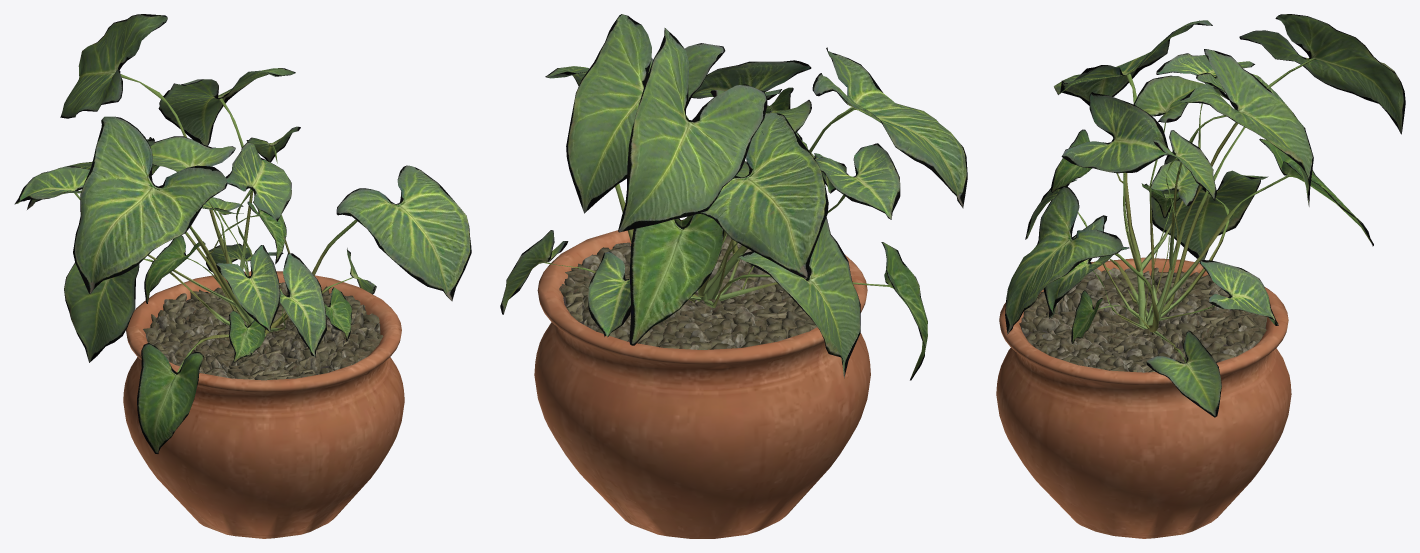
Rendered from potted-plant-2.glb.
3 views of the same model, side by side, from view 1: azimuth 30°, elevation 25°; view 2: azimuth 150°, elevation 25°; view 3: azimuth 270°, elevation 25° (orthographic). The views are drawn at different scales.
Parts seen in each view (by area): view 1: potted_plant_02_leaves, potted_plant_02_pot; view 2: potted_plant_02_leaves, potted_plant_02_pot; view 3: potted_plant_02_pot, potted_plant_02_leaves.
Boxes of the visible parts, x1,y1,x2,y2 form: potted_plant_02_leaves: [14, 14, 471, 453]; potted_plant_02_pot: [123, 271, 404, 538]; potted_plant_02_leaves: [500, 14, 967, 380]; potted_plant_02_pot: [534, 220, 870, 538]; potted_plant_02_pot: [996, 257, 1291, 538]; potted_plant_02_leaves: [1005, 14, 1405, 417].
Size of the model in its own units: 0.7009 by 0.8411 by 0.6574.
Materials: 2 (2 with a texture image).
